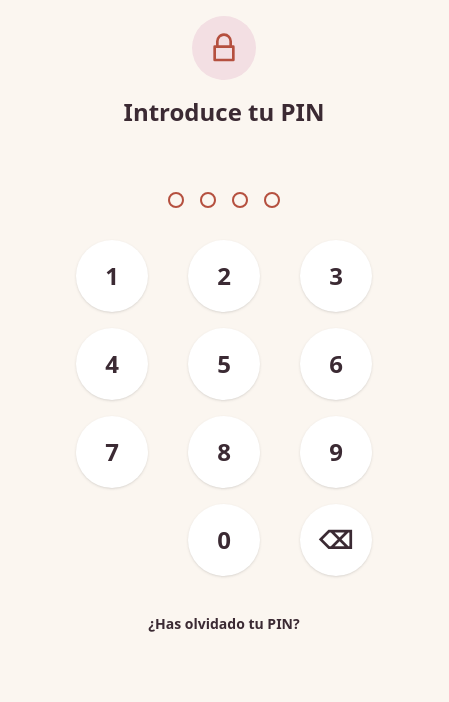
Scenario: Pantalla de bloqueo › "¿Has olvidado tu PIN?" explica que solo queda borrar los datos
The image size is (449, 702).
Click the button "¿Has olvidado tu PIN?". click: [224, 624]
box: [124,600,324,648]
(page scrolled)
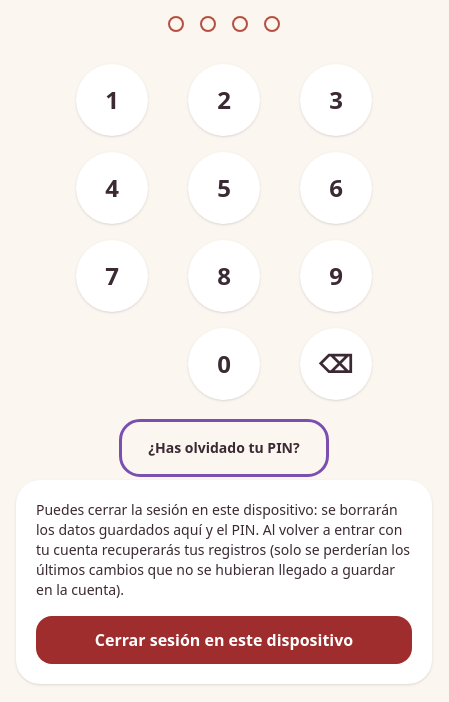
Expected: the text "recuperarás tus registros" is shown, [36,500,410,599]
Expected: the button "Cerrar sesión en este dispositivo" is shown, [36,616,412,664]
